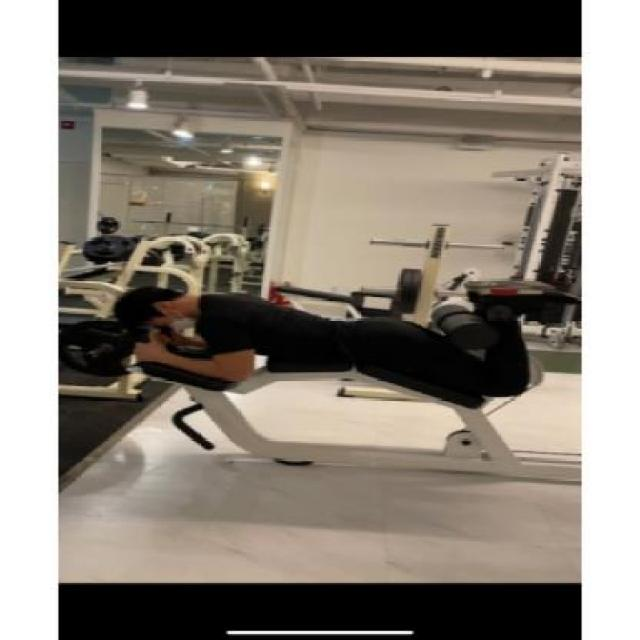reg curl machine: (94, 232, 591, 492)
